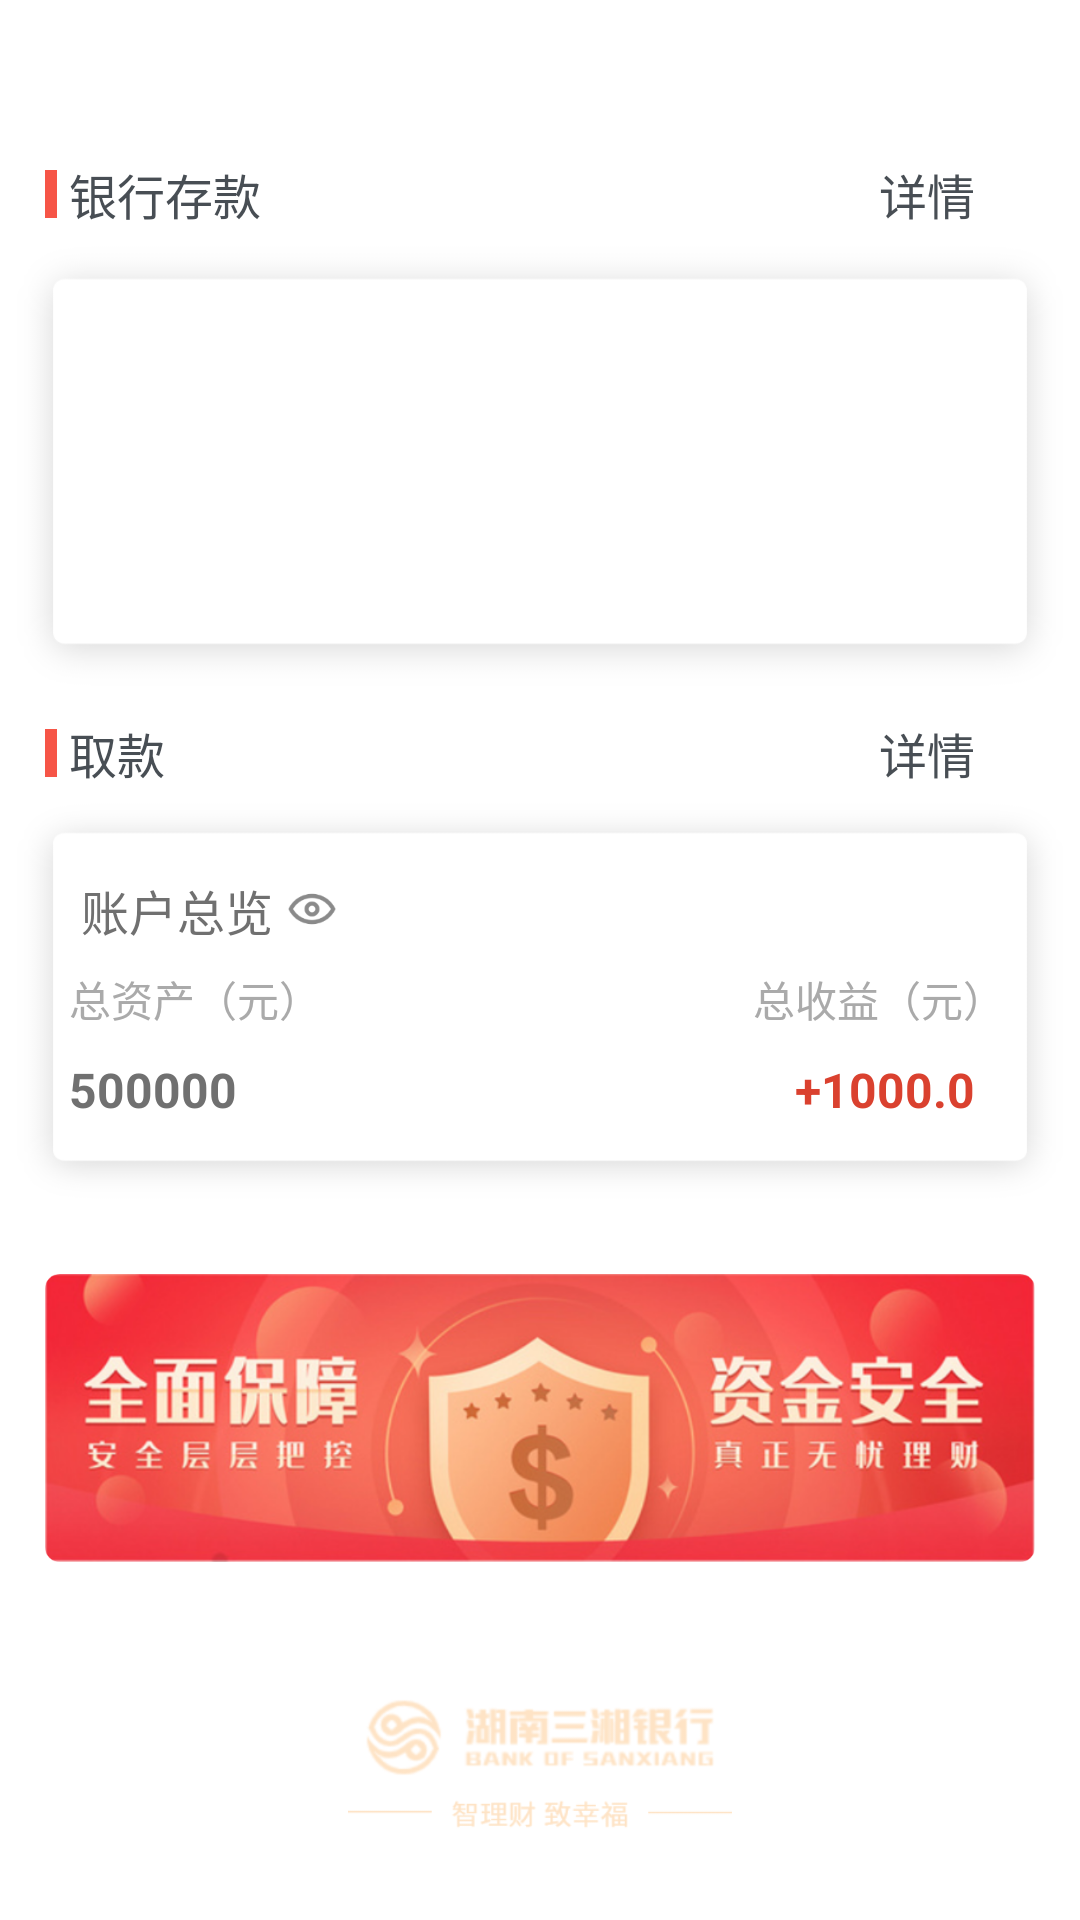

Where to tap for icons on this 1080px x 1920px app screen, as (x=x, y=y):
money showpassword: (x=312, y=909)
